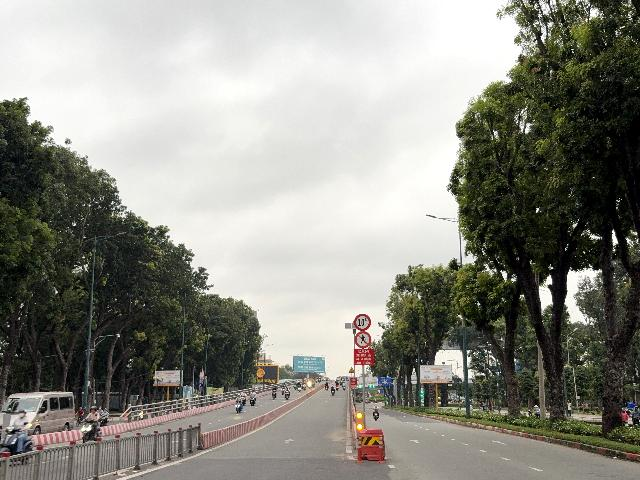cam-nguoi-di-bo: (354, 331, 371, 348)
han-che-trong-luong-xe: (354, 313, 371, 331)
